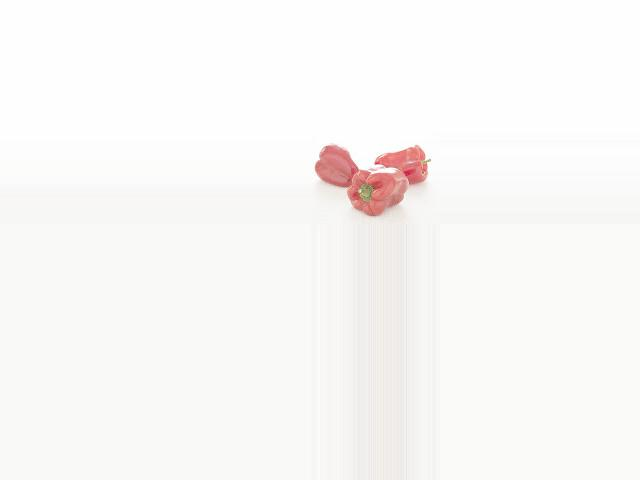bell_pepper: (312, 143, 356, 189)
